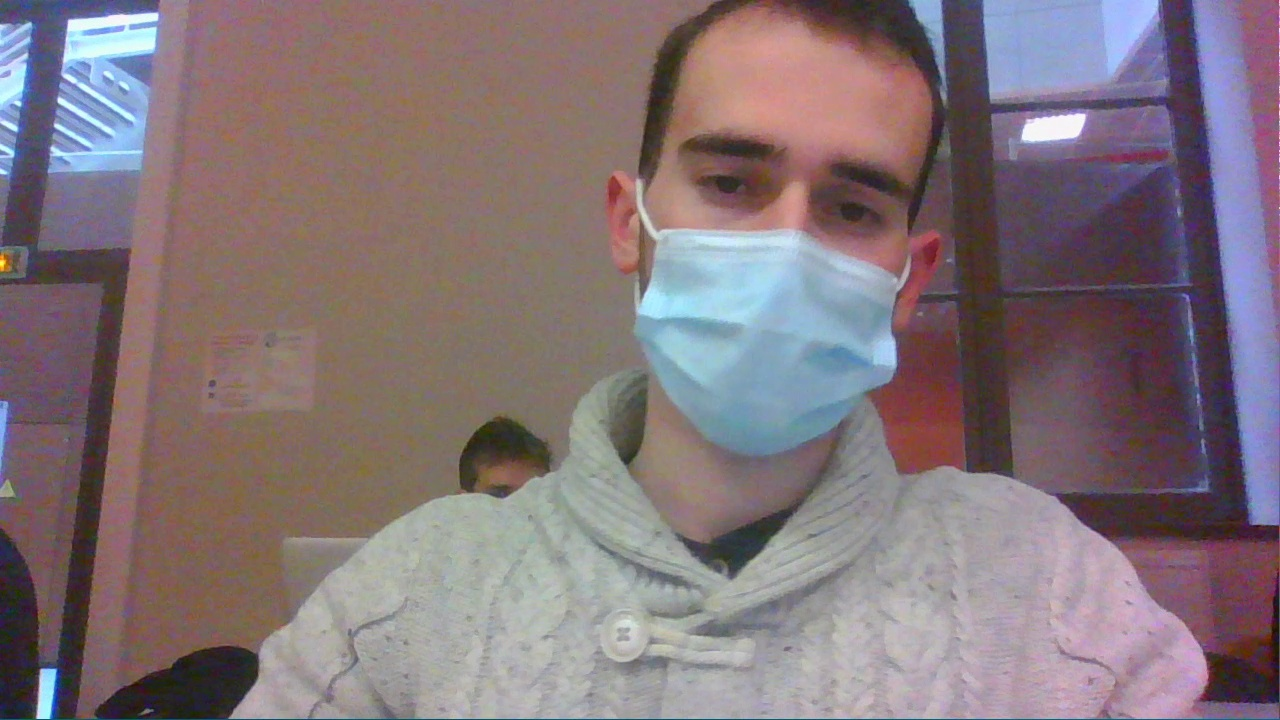mask: (574, 0, 930, 460)
